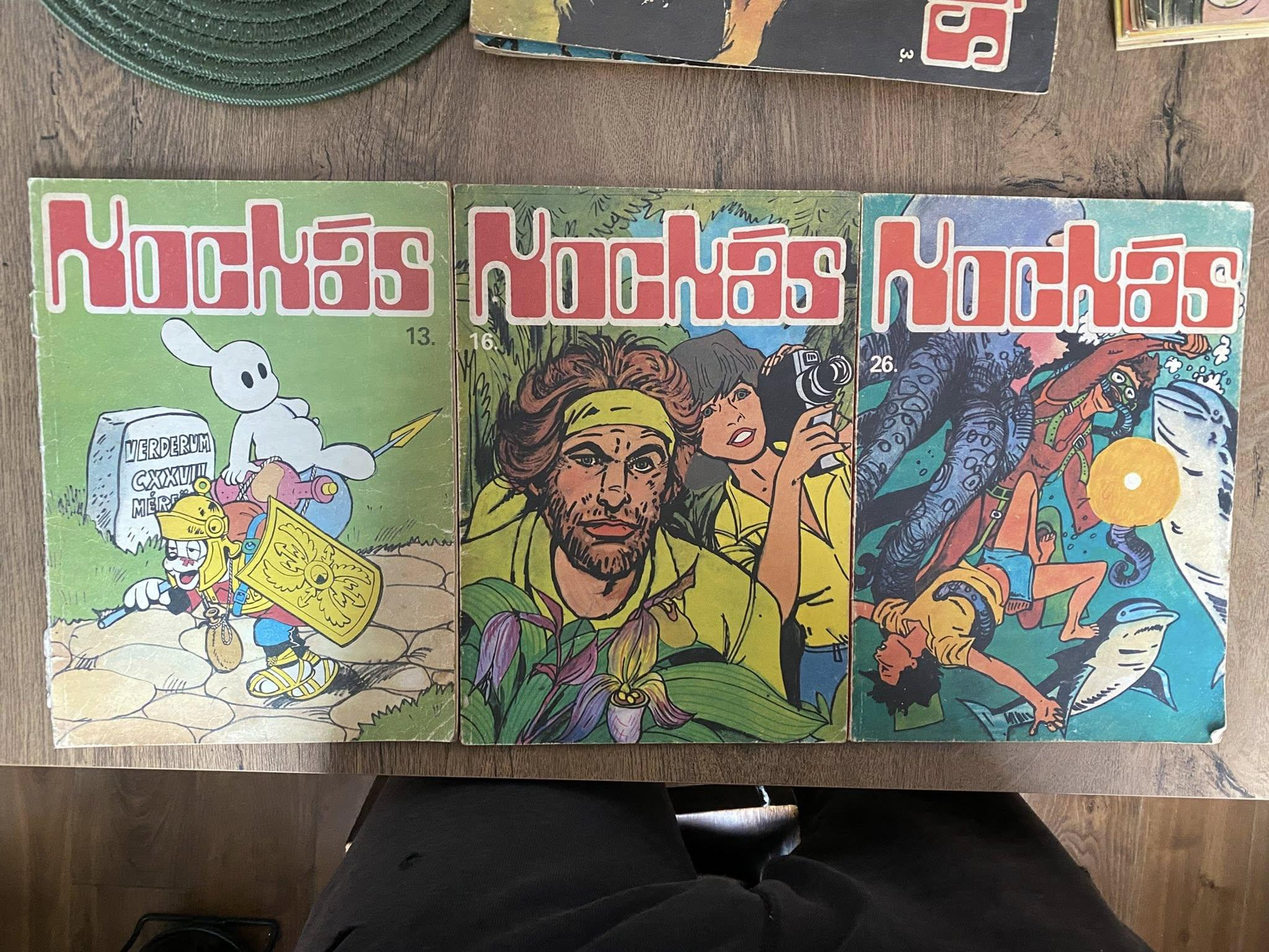comic: (30, 175, 457, 746), (455, 183, 863, 744), (848, 193, 1252, 750)
